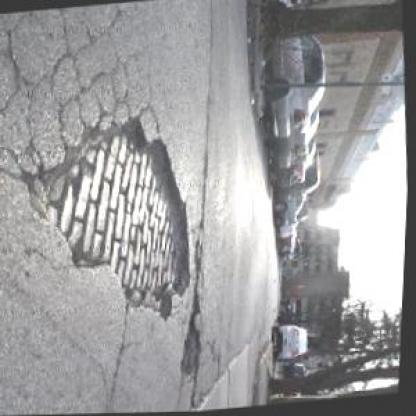pothole: (13, 104, 205, 330), (178, 319, 210, 385)
